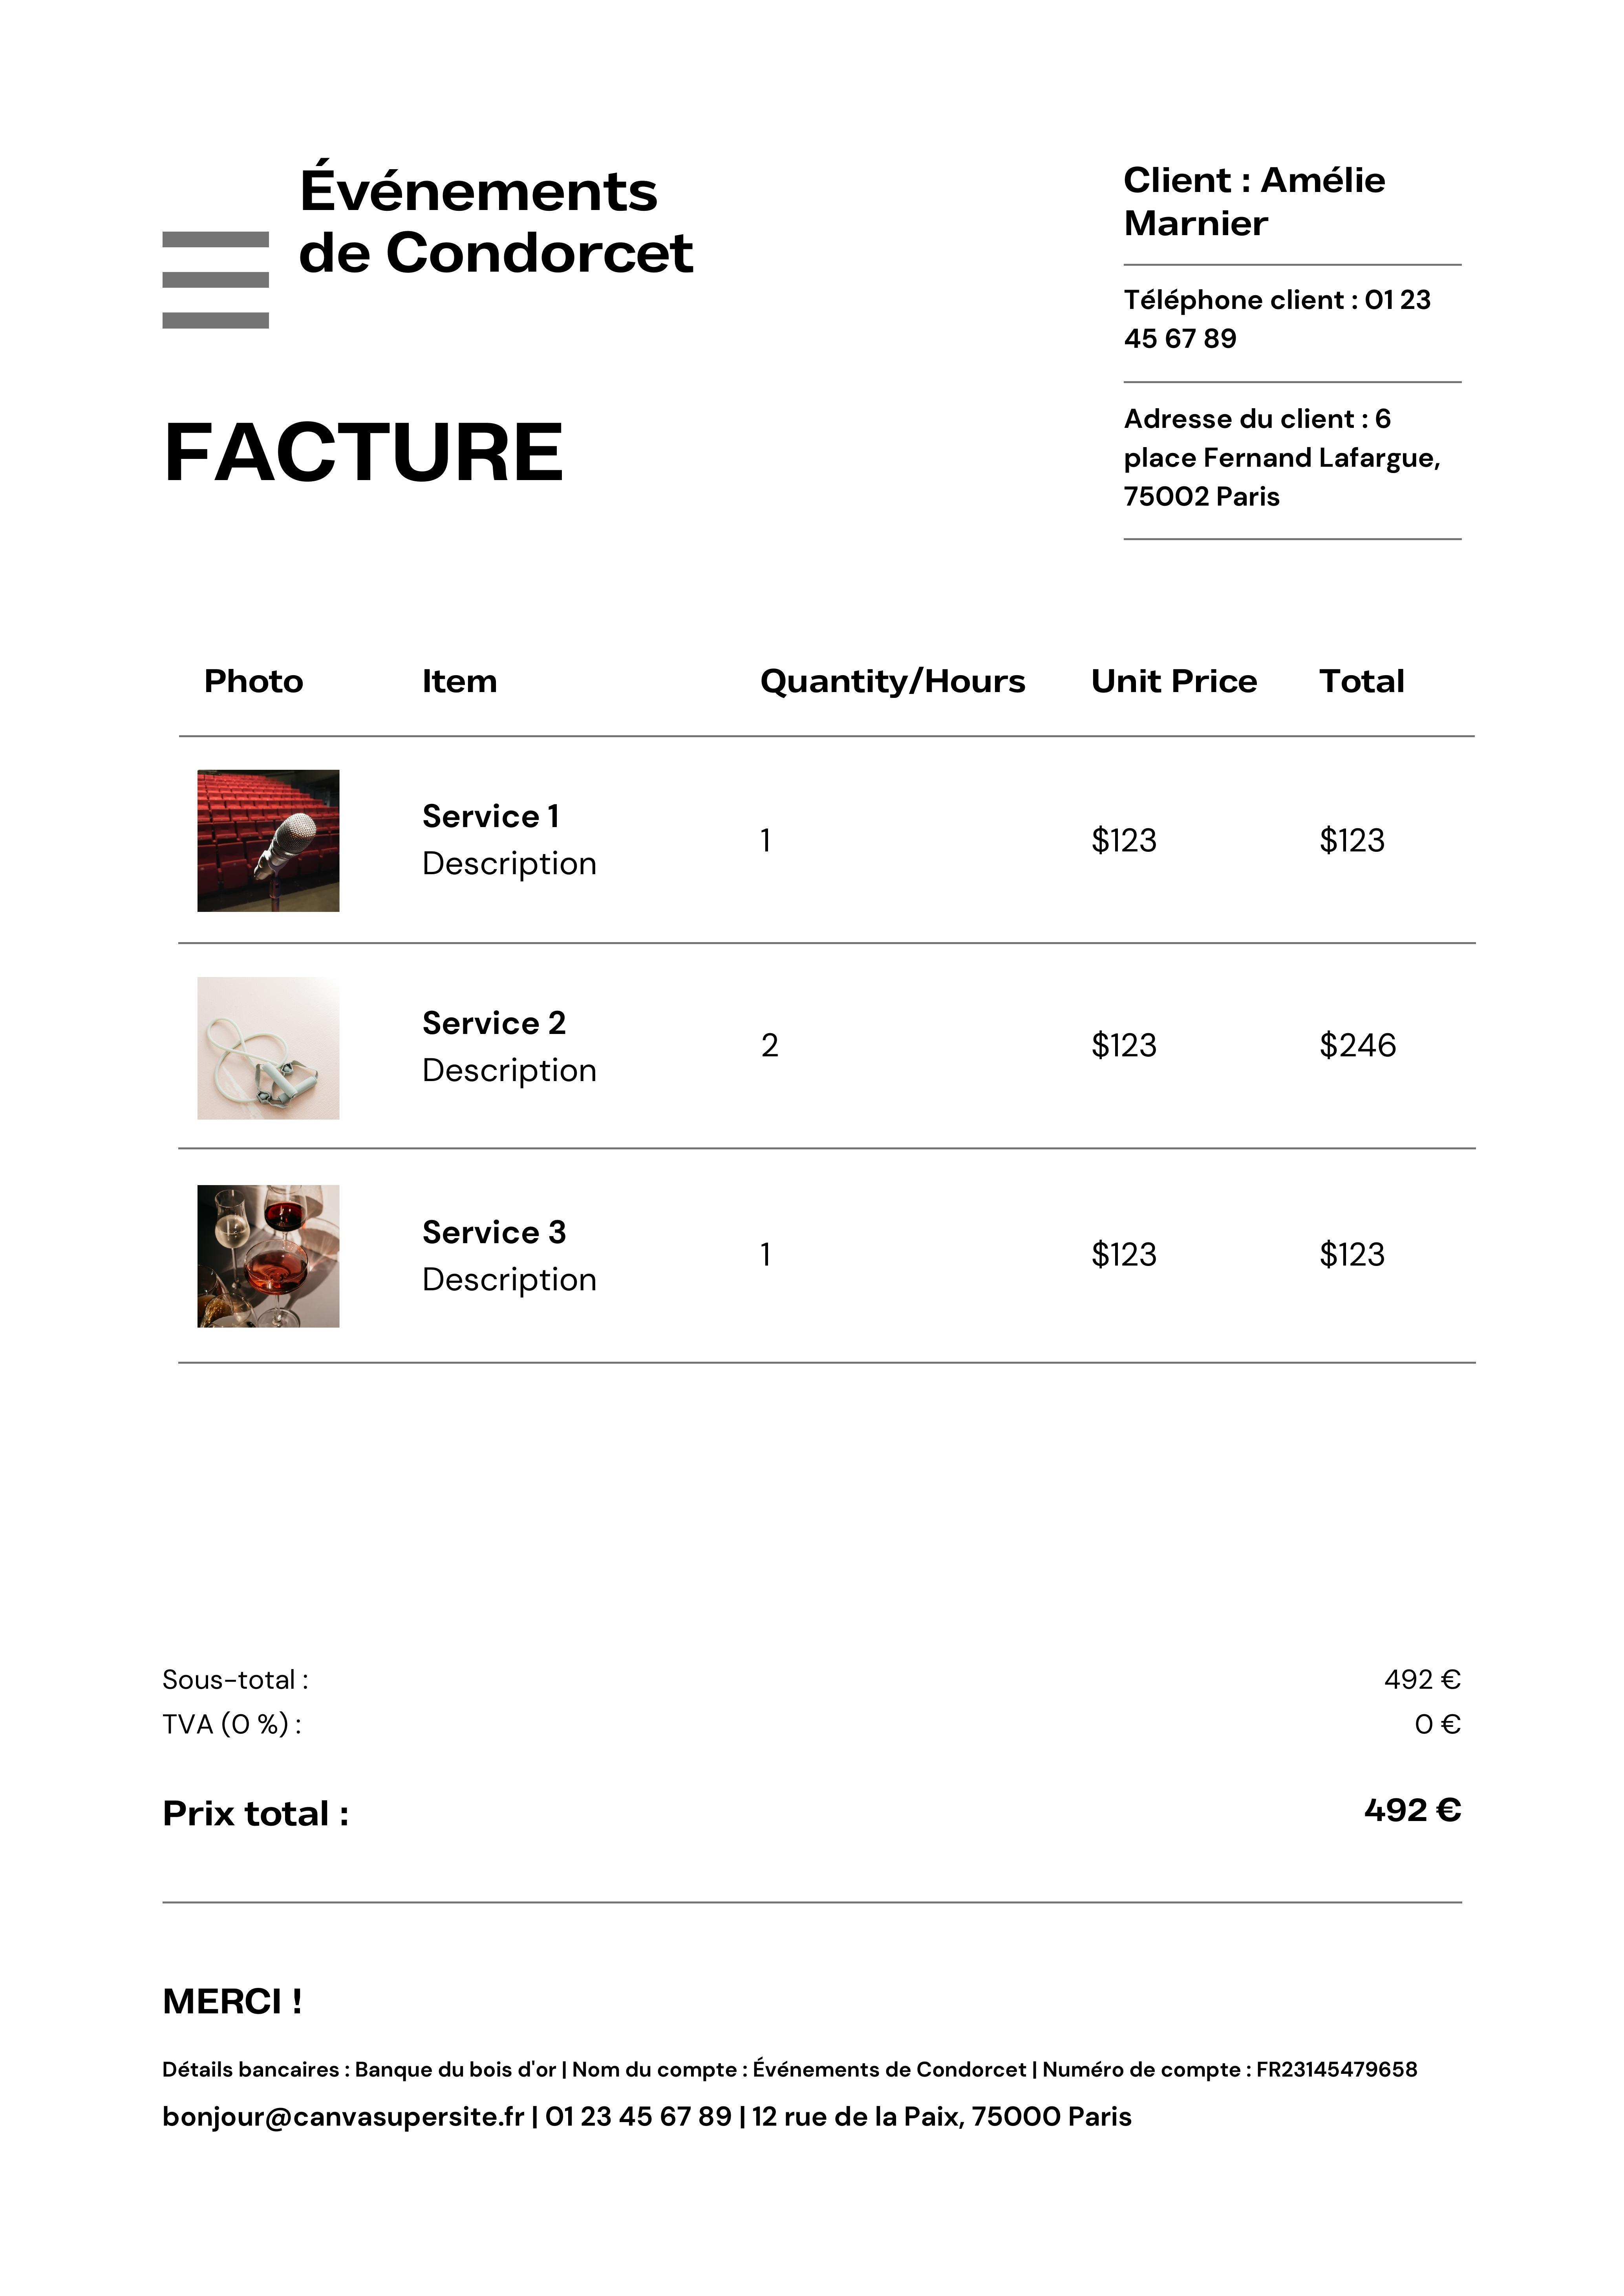ROI: (178, 661, 1483, 1365), (149, 1664, 1475, 1841), (1120, 158, 1478, 523), (294, 149, 724, 293), (151, 2047, 1438, 2094)
